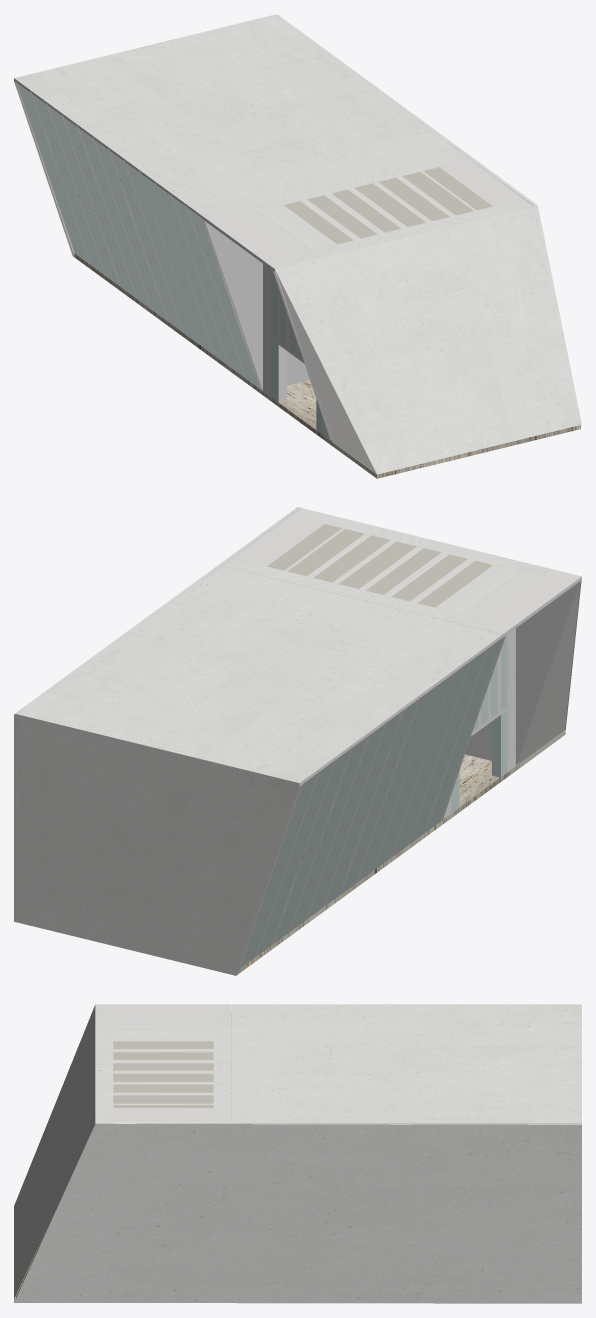
The model's file is MUSEO.fbx.
The picture shows the model from 3 angles, top to bottom: view 1: azimuth 30°, elevation 25°; view 2: azimuth 150°, elevation 25°; view 3: azimuth 270°, elevation 25°; orthographic projection. The views are drawn at different scales.
Visible parts, largest first — view 1: Plane.001, Plane.008, Cube.003, Plane.004, Plane, Puerta principal, Plane.009; view 2: Plane.001, Plane.002, Cube.003, Plane.006, Puerta principal, Plane.009, Plane, Plane.003; view 3: Plane.003, Plane.001, Plane.008.
Part boxes in pixels (x1=…): Plane.001: x1=14, y1=14, x2=532, y2=271; Plane.008: x1=275, y1=205, x2=581, y2=474; Cube.003: x1=16, y1=83, x2=260, y2=389; Plane.004: x1=202, y1=219, x2=309, y2=390; Plane: x1=74, y1=253, x2=580, y2=478; Puerta principal: x1=262, y1=264, x2=333, y2=442; Plane.009: x1=276, y1=272, x2=376, y2=473; Plane.001: x1=15, y1=508, x2=581, y2=786; Plane.002: x1=15, y1=718, x2=301, y2=975; Cube.003: x1=241, y1=637, x2=503, y2=967; Plane.006: x1=465, y1=580, x2=581, y2=765; Puerta principal: x1=443, y1=628, x2=518, y2=819; Plane.009: x1=519, y1=585, x2=580, y2=763; Plane: x1=239, y1=729, x2=565, y2=973; Plane.003: x1=14, y1=507, x2=301, y2=921; Plane.003: x1=14, y1=1121, x2=581, y2=1303; Plane.001: x1=95, y1=1004, x2=581, y2=1124; Plane.008: x1=14, y1=1005, x2=95, y2=1298.
Size of the model in its own units: 24.49 by 17.08 by 48.92.
